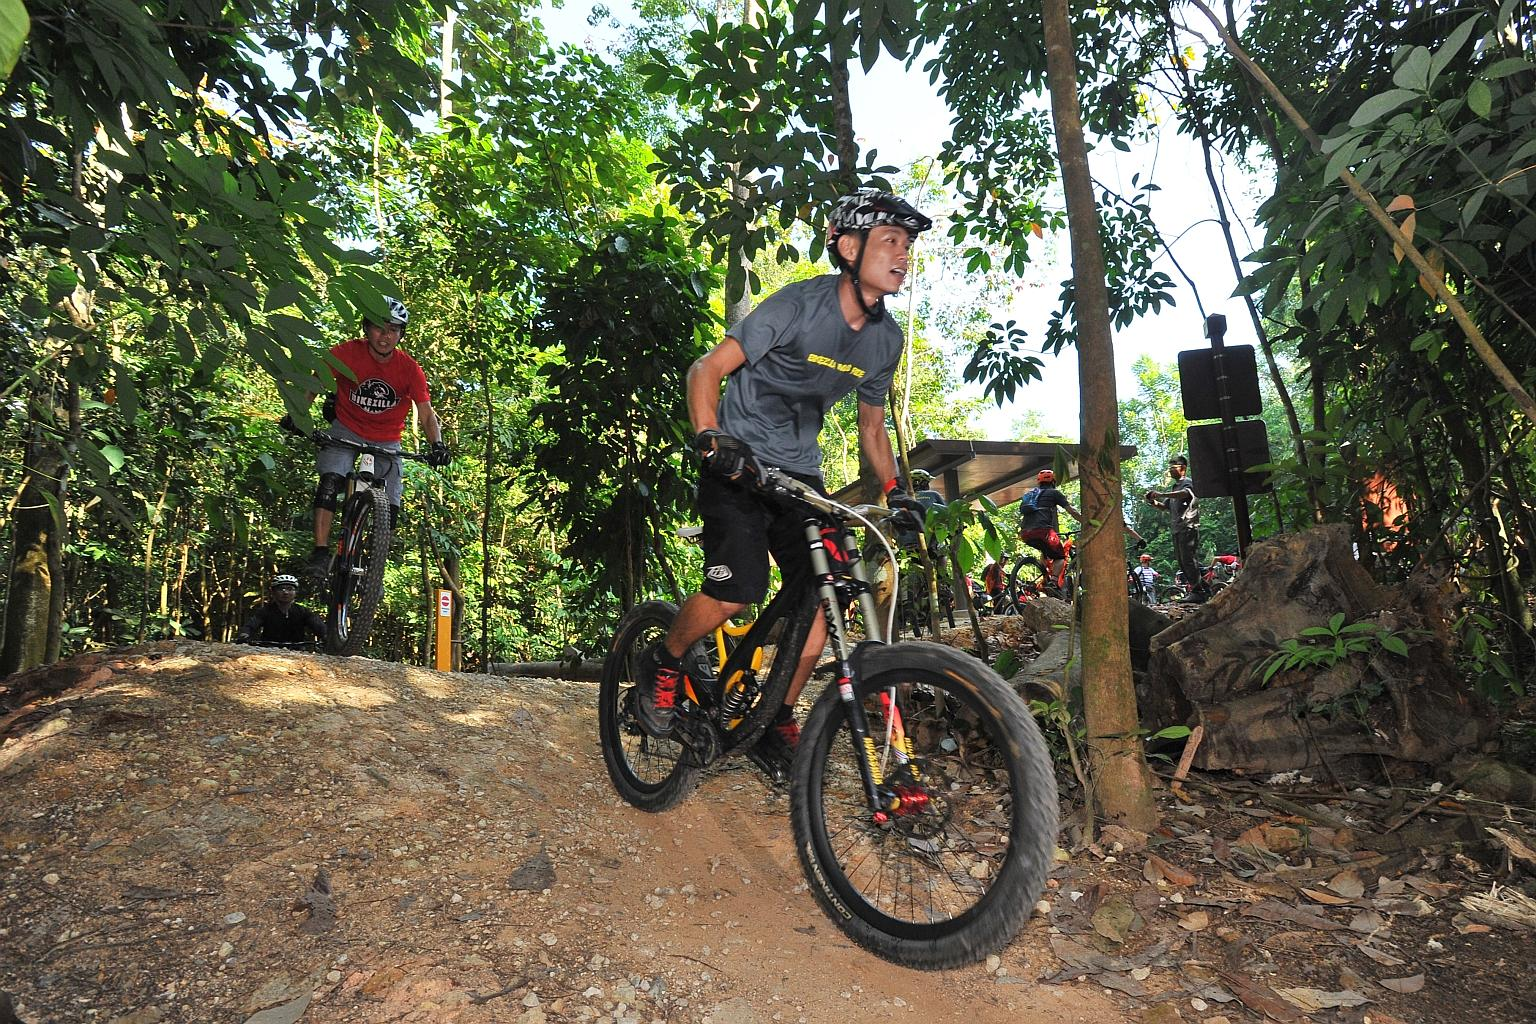bike: (597, 441, 1058, 974), (281, 418, 449, 654)
person: (642, 191, 911, 747), (296, 294, 444, 588), (1151, 459, 1205, 608)
tree: (1041, 2, 1159, 833)
